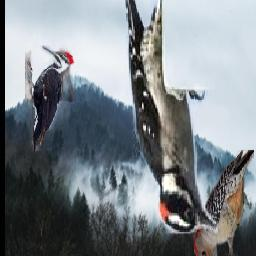Woodpecker: (124, 0, 217, 233), (194, 150, 254, 256), (25, 46, 75, 152)
